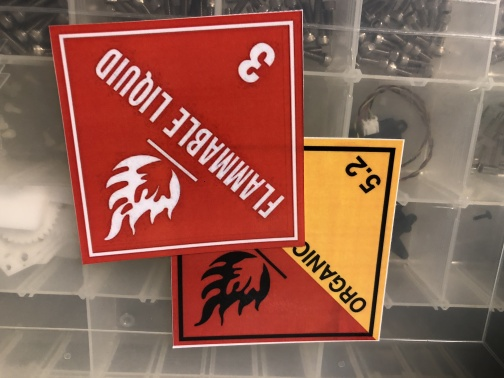FlammableLiquid: (48, 11, 305, 265)
OrganicPeroxide: (171, 137, 407, 348)
